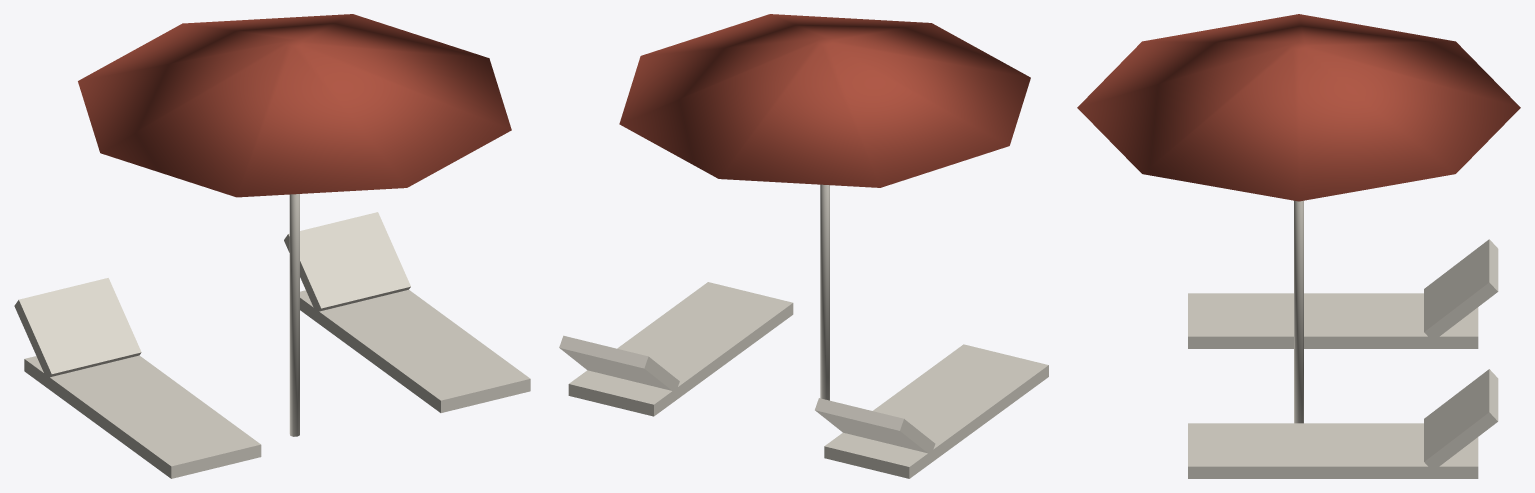
Rendered from umbrella_set.glb.
3 views of the same model, side by side, from view 1: azimuth 30°, elevation 25°; view 2: azimuth 150°, elevation 25°; view 3: azimuth 270°, elevation 25° (orthographic). The views are drawn at different scales.
Visible parts, largest first — view 1: umbrella_set; view 2: umbrella_set; view 3: umbrella_set.
Boxes of the visible parts, x1,y1,x2,y2 form: umbrella_set: [14, 14, 530, 478]; umbrella_set: [559, 14, 1048, 478]; umbrella_set: [1077, 14, 1520, 478].
Bounding box in the file's own units: 2.6 × 2.5 × 2.6.
